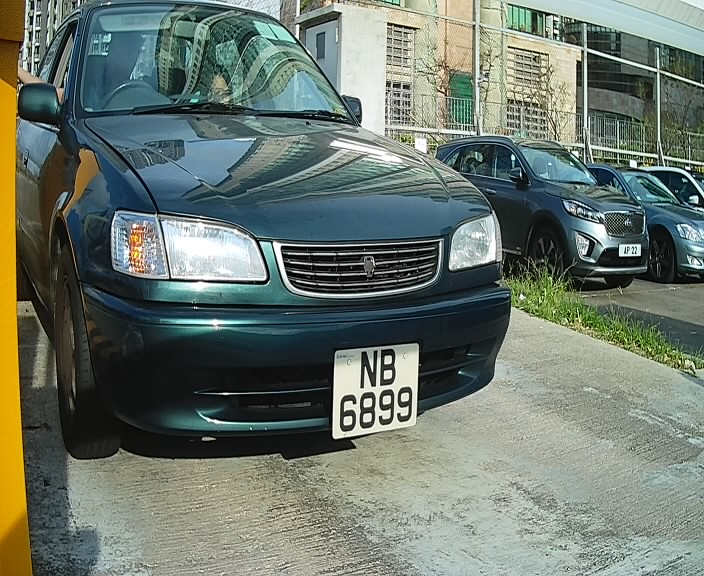Car: (24, 20, 552, 498)
License Plate: (325, 338, 431, 446)
